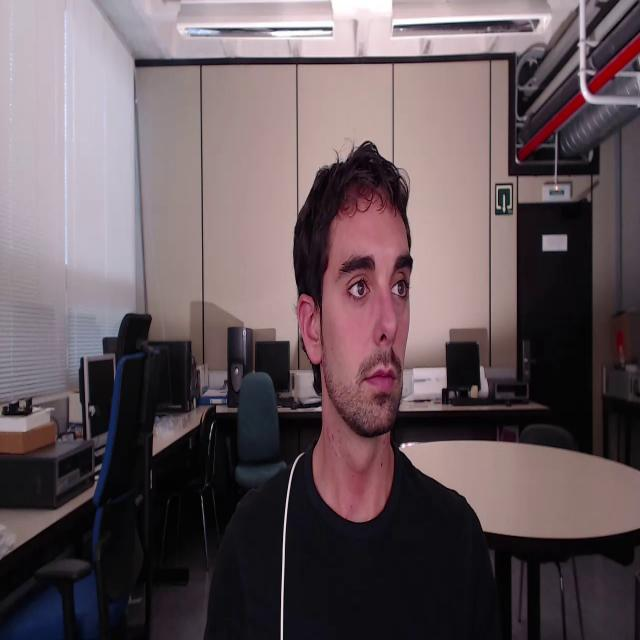eye: (343, 275, 374, 304), (387, 270, 415, 302)
gaze: (356, 281, 366, 297), (397, 280, 405, 296)
